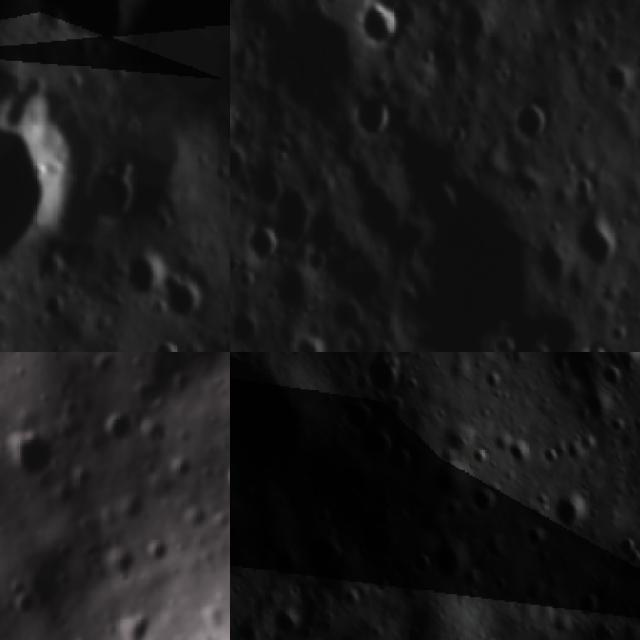crater: (404, 186, 561, 352), (0, 87, 62, 270), (14, 0, 143, 57), (83, 169, 138, 240), (266, 260, 322, 319), (1, 428, 58, 480), (269, 188, 312, 251), (503, 97, 552, 146), (352, 93, 396, 147), (592, 47, 634, 103), (116, 247, 162, 298), (520, 313, 580, 352), (363, 355, 412, 402), (551, 487, 596, 538), (573, 220, 618, 270), (447, 0, 492, 50), (361, 0, 401, 52), (162, 276, 204, 324), (339, 398, 383, 442), (238, 226, 284, 266), (246, 168, 288, 208), (268, 602, 309, 640), (99, 540, 137, 577), (468, 482, 505, 520), (377, 447, 422, 478), (230, 312, 262, 352), (111, 609, 152, 640), (100, 406, 132, 444), (360, 427, 398, 458), (140, 536, 172, 566), (571, 592, 603, 622), (230, 143, 252, 184), (9, 592, 38, 618), (290, 334, 330, 352), (140, 336, 177, 352), (219, 457, 230, 500)
